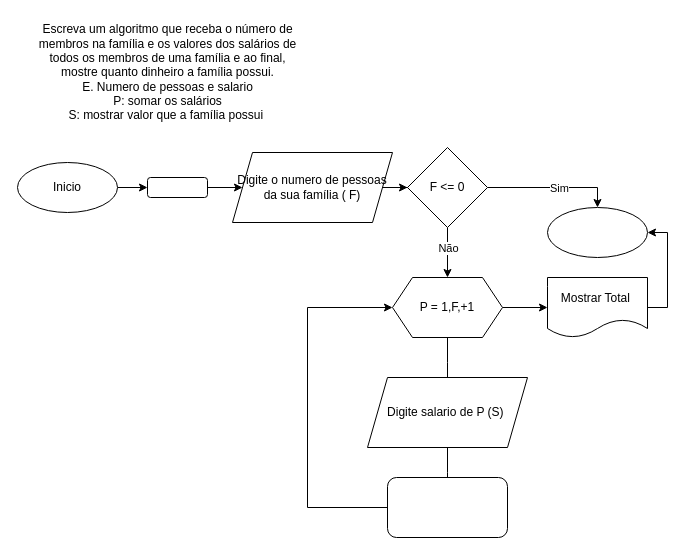
Image size: 693x555. Some labels were removed from this diagram. The box of each missing label's shape, as (x1, y1, x2, y2) in pixels:
Fim: (546, 206, 648, 258)
Total = 0: (146, 176, 208, 198)
Total = Total + S: (386, 476, 508, 538)
